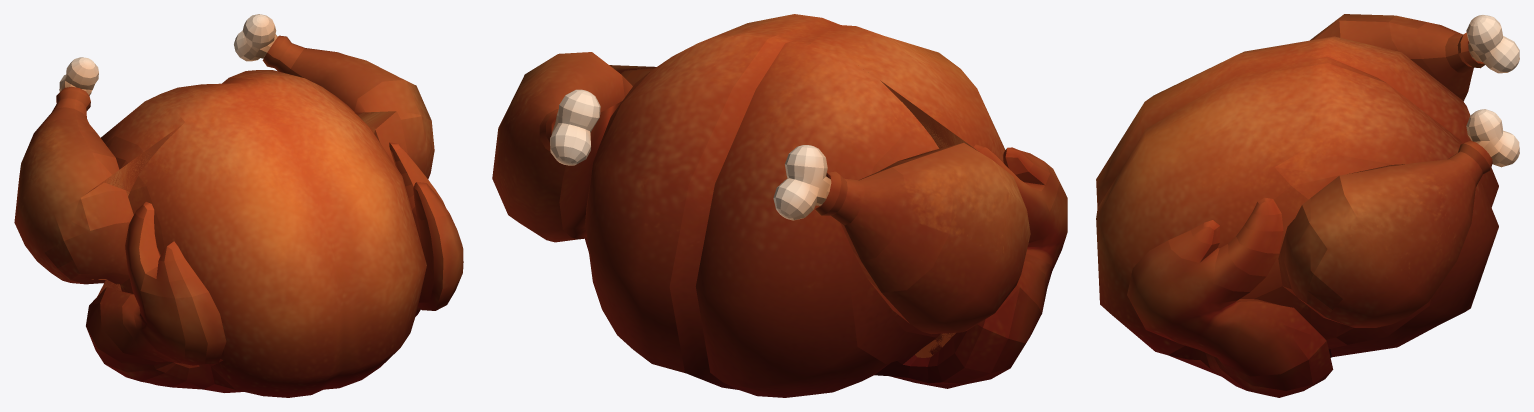
Rendered from Chicken.fbx.
3 views of the same model, side by side, from view 1: azimuth 30°, elevation 25°; view 2: azimuth 150°, elevation 25°; view 3: azimuth 270°, elevation 25° (orthographic). The views are drawn at different scales.
Visible parts, largest first — view 1: polySurface1, polySurface2; view 2: polySurface2, polySurface1; view 3: polySurface1, polySurface2.
Boxes of the visible parts, x1=… form: polySurface1: x1=68, y1=85, x2=463, y2=397; polySurface2: x1=14, y1=14, x2=434, y2=350; polySurface2: x1=492, y1=31, x2=1030, y2=397; polySurface1: x1=586, y1=14, x2=1067, y2=388; polySurface1: x1=1096, y1=40, x2=1310, y2=397; polySurface2: x1=1310, y1=14, x2=1519, y2=386.
Size of the model in its own units: 211 by 133 by 181.
